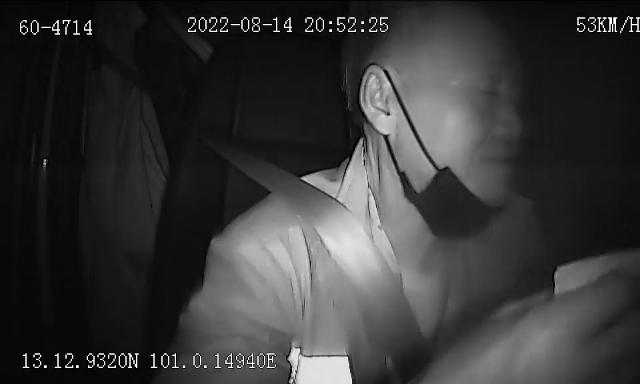Seatbelt: (252, 164, 430, 376)
